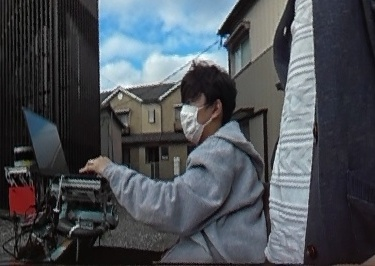person: (148, 61, 262, 266)
